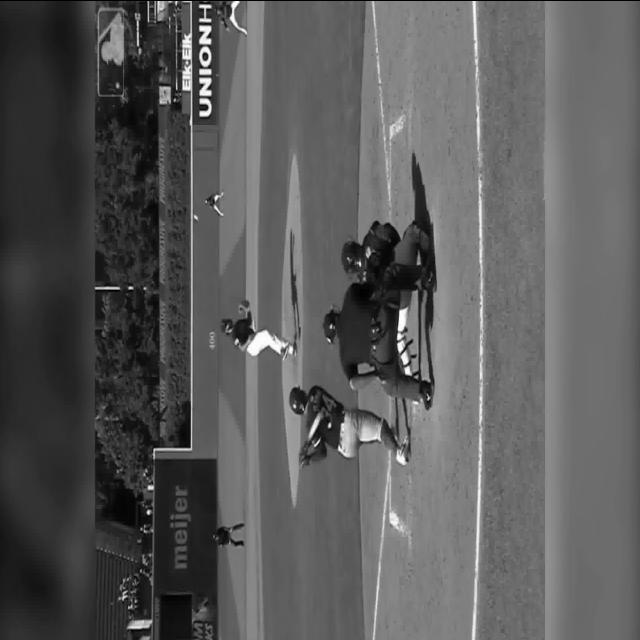baseball: (194, 214, 198, 220)
baseball_glove: (238, 299, 249, 313)
bat: (300, 408, 322, 448)
shoe: (410, 221, 430, 251), (396, 434, 410, 465), (420, 380, 434, 410), (420, 266, 436, 292), (419, 230, 430, 252), (281, 344, 289, 360), (292, 342, 296, 356)
